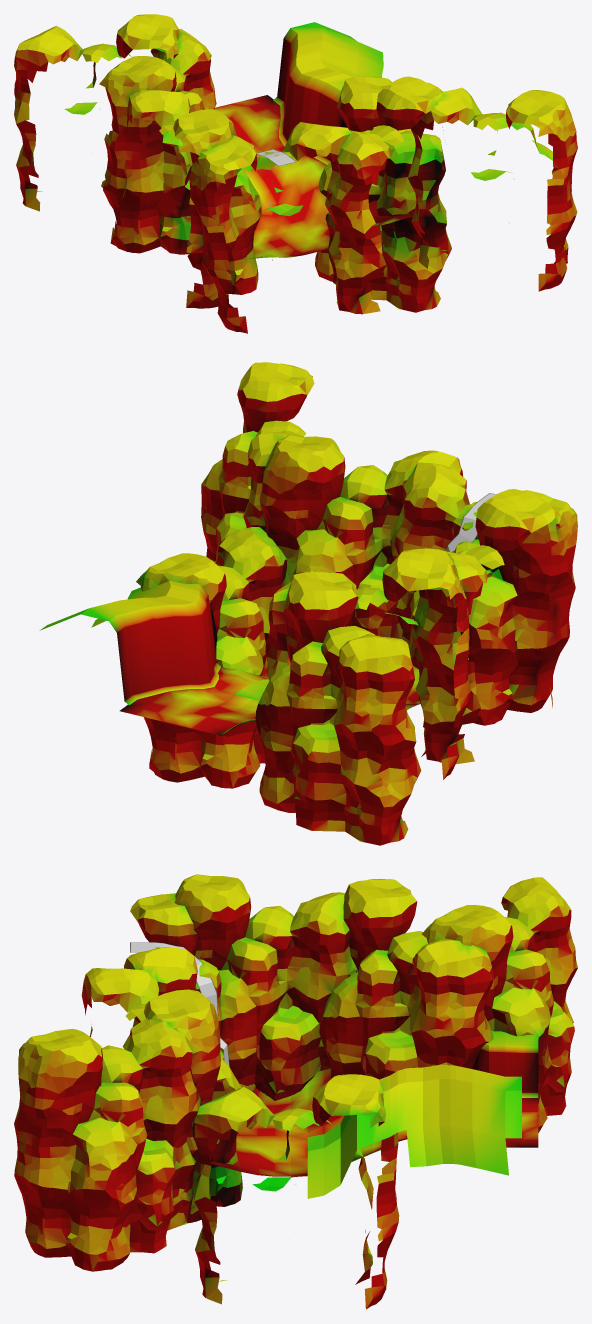
File: forest_clearing_3.glb
3 views of the same model, one above another, from view 1: azimuth 30°, elevation 25°; view 2: azimuth 150°, elevation 25°; view 3: azimuth 270°, elevation 25° (orthographic). The views are drawn at different scales.
Parts seen in each view (by area): view 1: Cliff_1, Clearing_3_Floor, Clearing_3_Wall; view 2: Cliff_1, Clearing_3_Wall, Clearing_3_Floor, Waterfall_1; view 3: Cliff_1, Clearing_3_Wall, Clearing_3_Floor, Waterfall_1.
Boxes of the visible parts, <box> form: Cliff_1: <box>14,14,577,333</box>; Clearing_3_Floor: <box>183,95,412,259</box>; Clearing_3_Wall: <box>273,22,410,164</box>; Cliff_1: <box>136,362,577,845</box>; Clearing_3_Wall: <box>39,580,269,734</box>; Clearing_3_Floor: <box>120,641,421,735</box>; Waterfall_1: <box>446,493,496,552</box>; Cliff_1: <box>14,874,577,1309</box>; Clearing_3_Wall: <box>307,1031,538,1198</box>; Clearing_3_Floor: <box>210,1068,538,1177</box>; Waterfall_1: <box>130,942,229,1066</box>.
Size of the model in its own units: 60.32 by 38.17 by 68.37.
